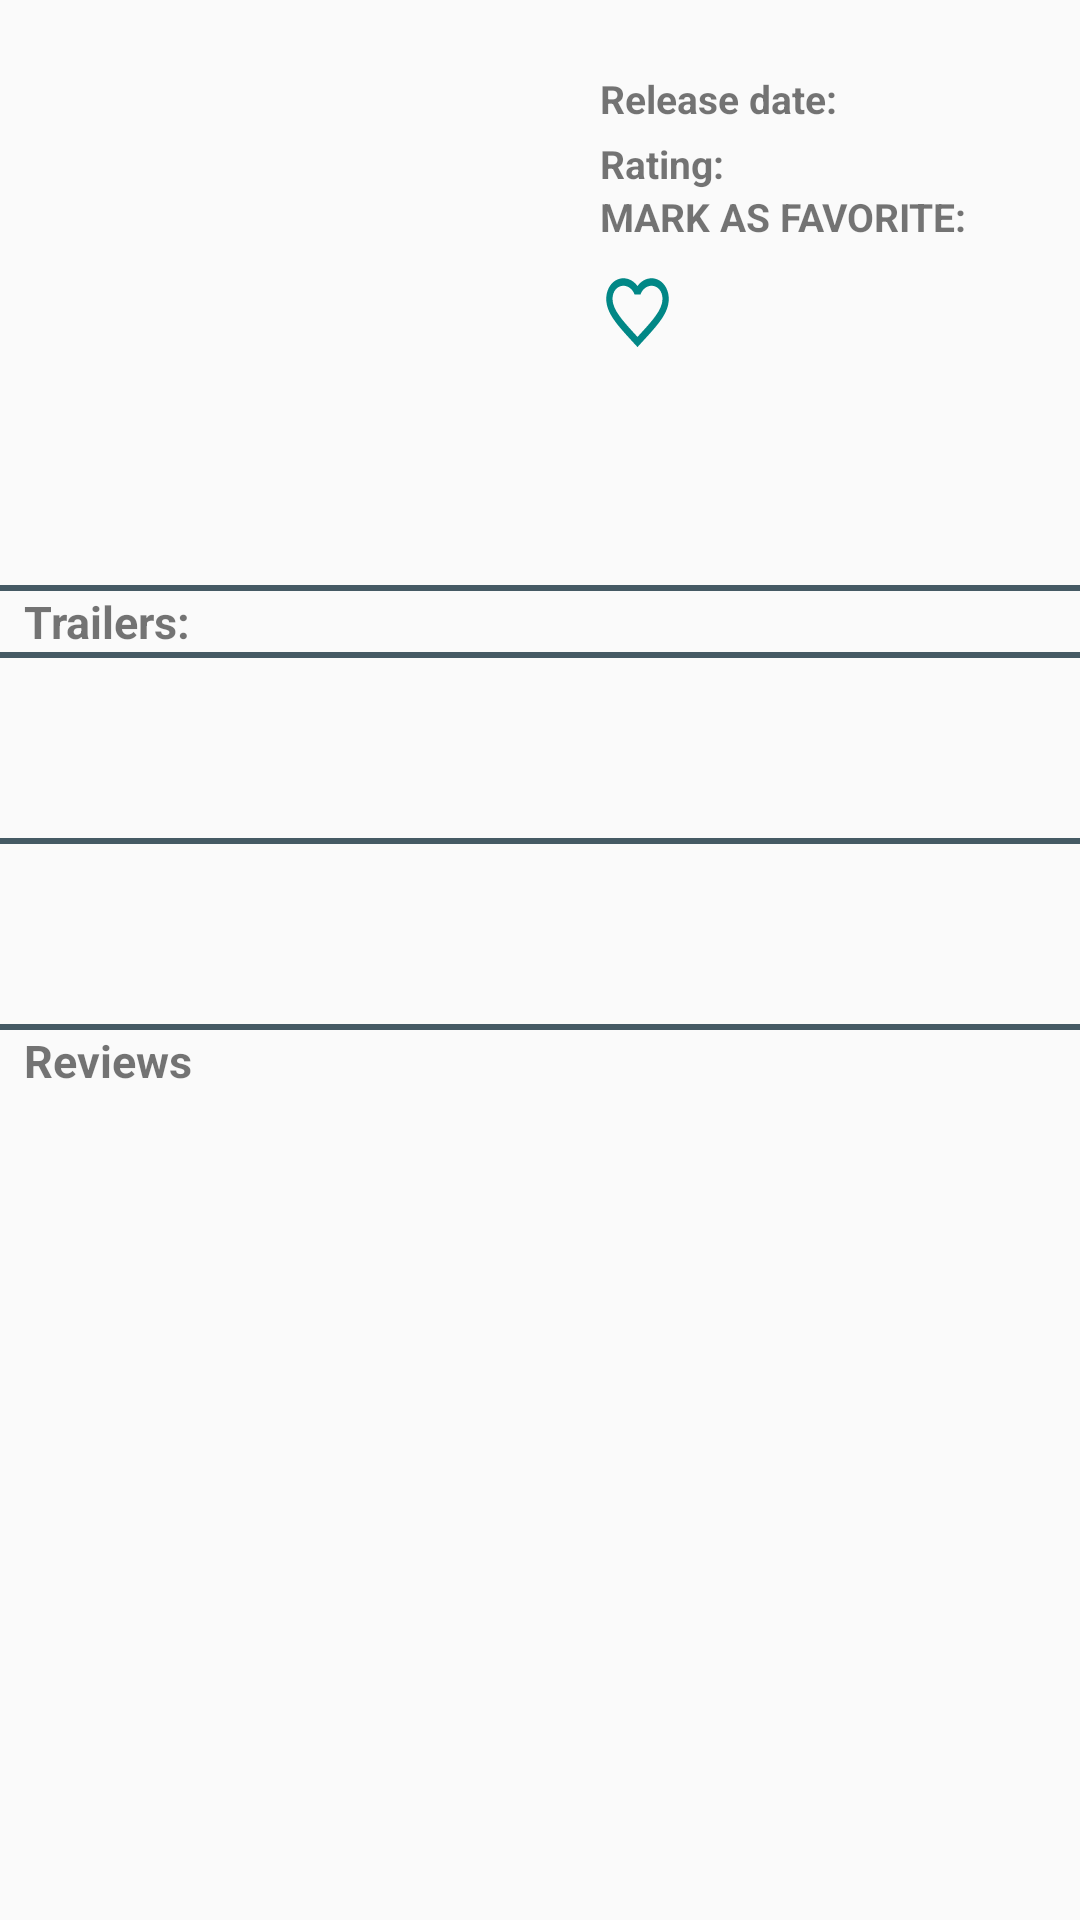

Screen size 1080×1920. Icon name, then its box in pixels as (x1, y1, x2, y2):
favorite vote button: (606, 278, 669, 347)
